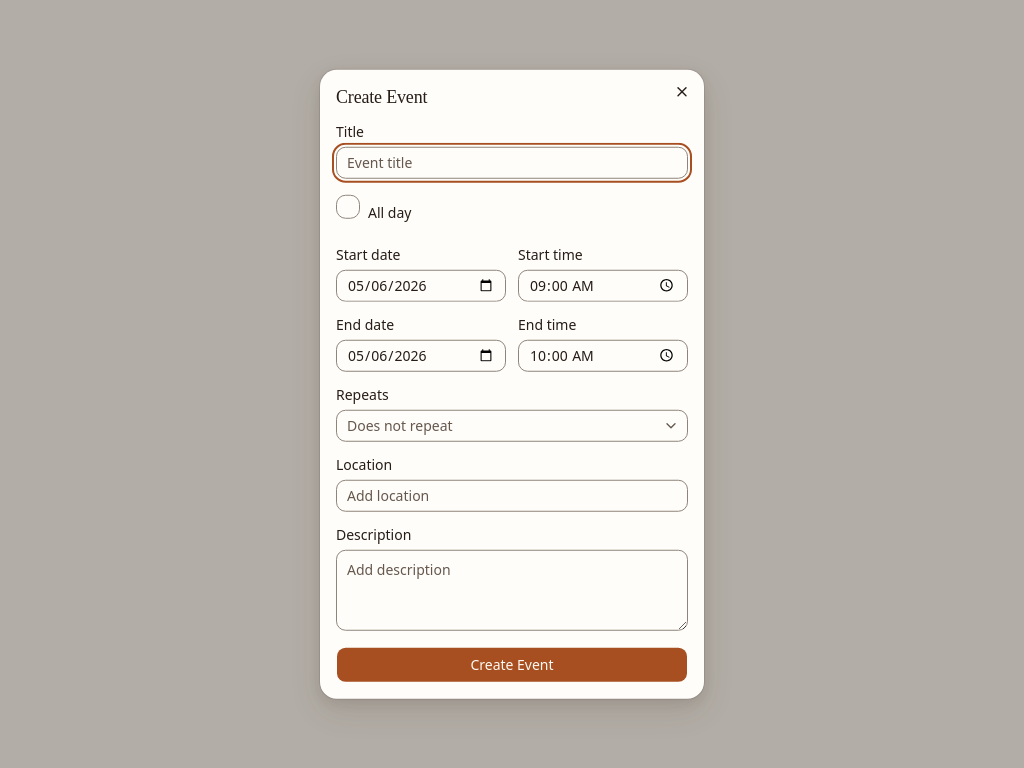
Test: EventFormDialog — Ends control › enables only the input matching the chosen Ends radio
Step 1. Click the dropdown named "Repeats" → coordinates (400, 425), box [336,409,688,441]
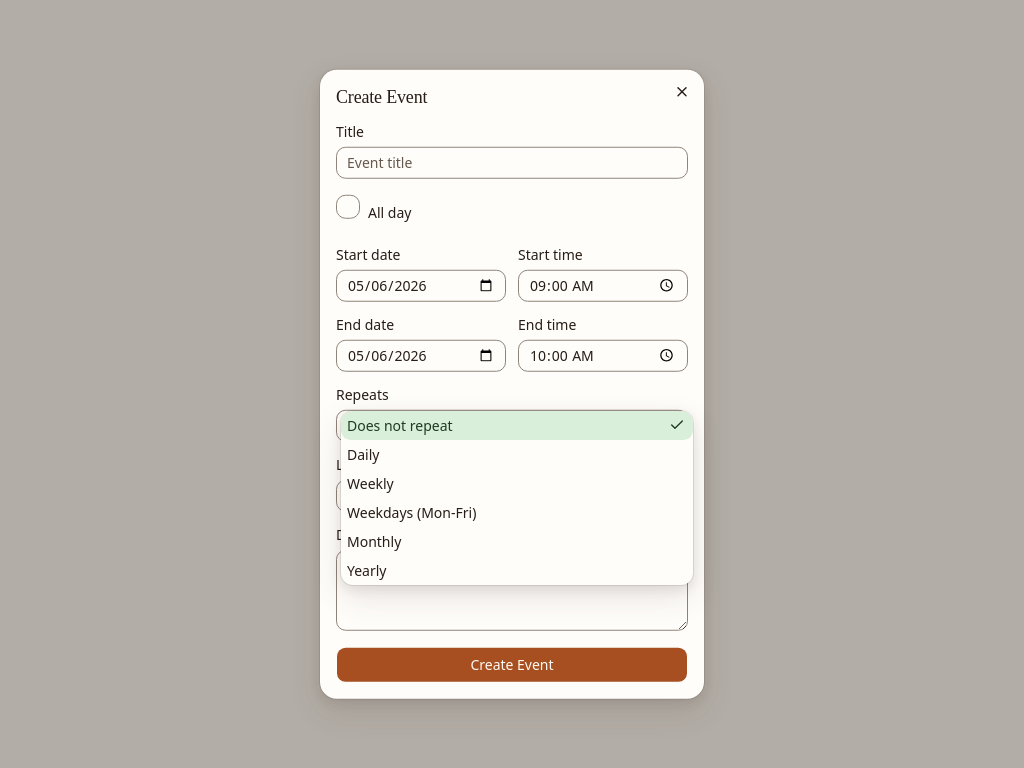
Step 2. Click the option "Weekly" → coordinates (370, 483), box [347,474,394,493]
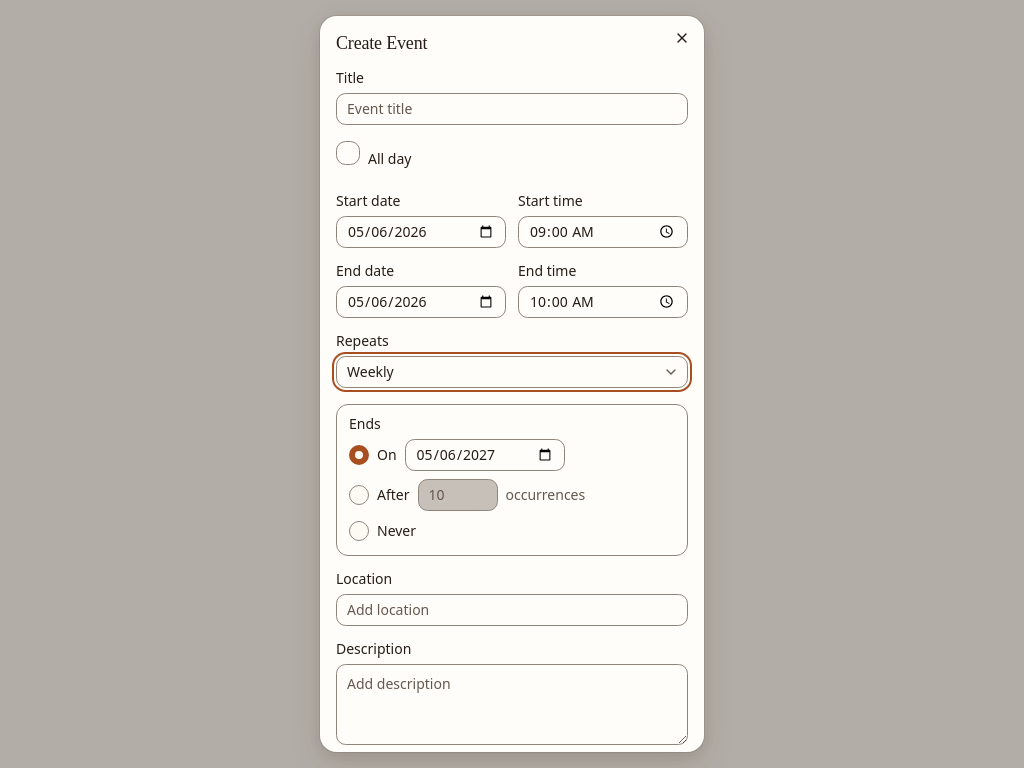
Step 3. Click the radio button labelled "Never" → coordinates (359, 530), box [349,520,369,540]
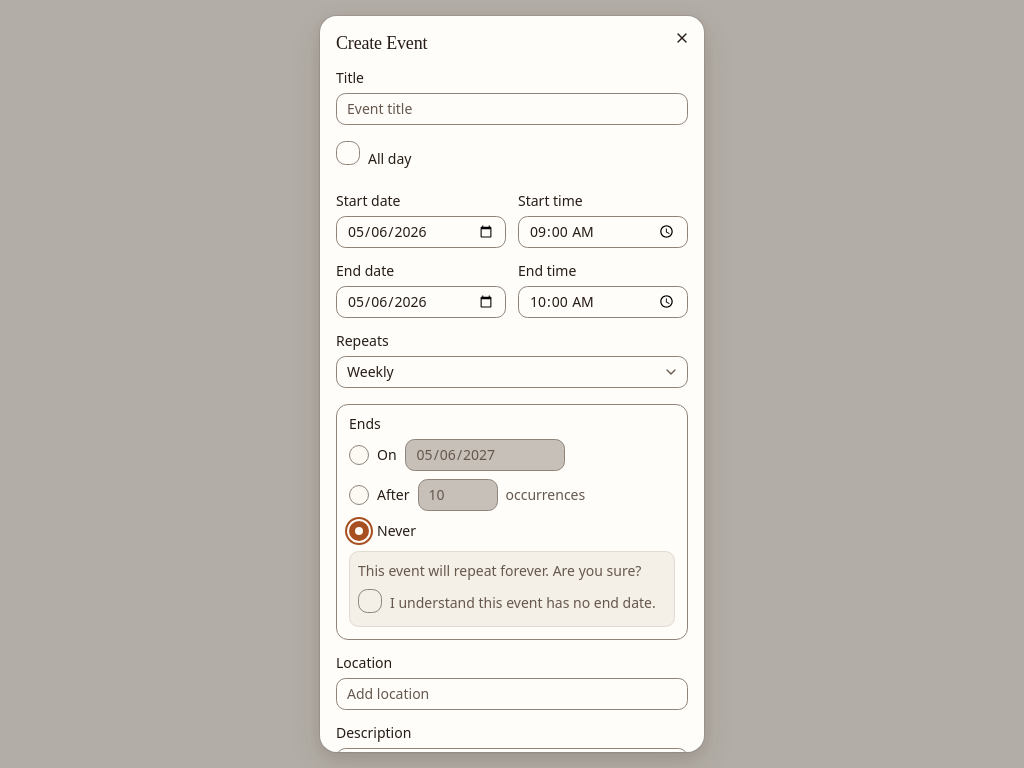
Result: the number field named "Occurrences" is disabled at [418,478,498,510]
Result: the date field named "End date" is disabled at [405,438,565,470]
Step 4. Click the radio button labelled "After" → coordinates (359, 494), box [349,484,369,504]
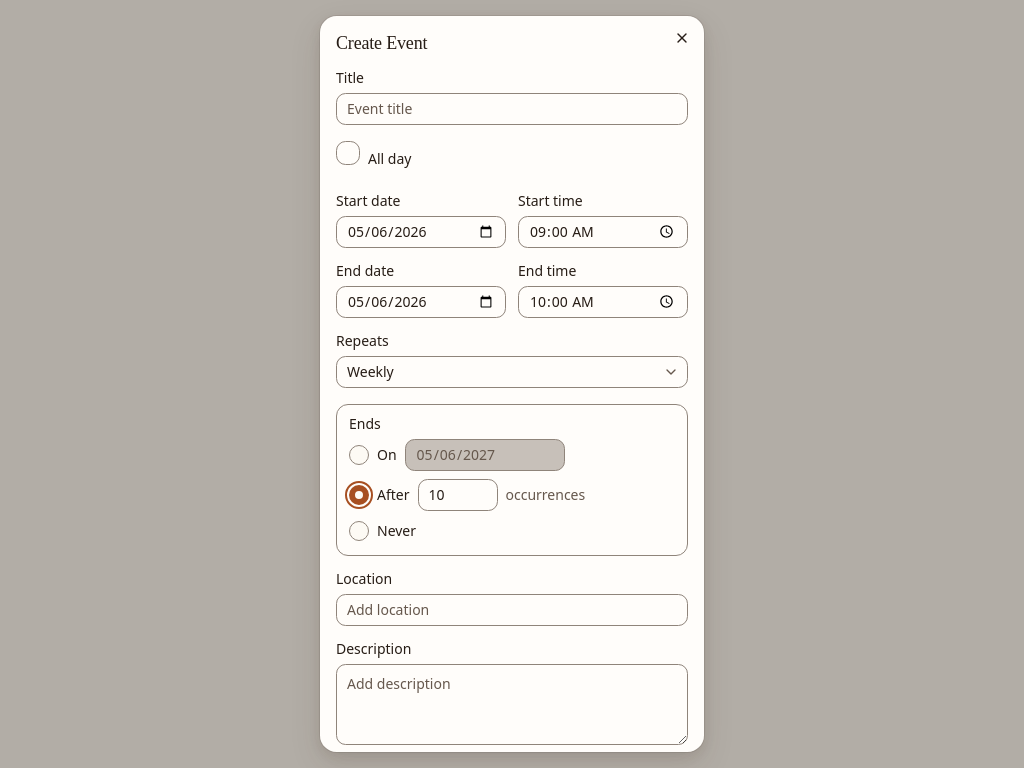
Result: the date field named "End date" is disabled at [405,438,565,470]
Result: the number field named "Occurrences" is enabled at [418,478,498,510]
Step 5. Click the radio button labelled "On" → coordinates (359, 454), box [349,444,369,464]
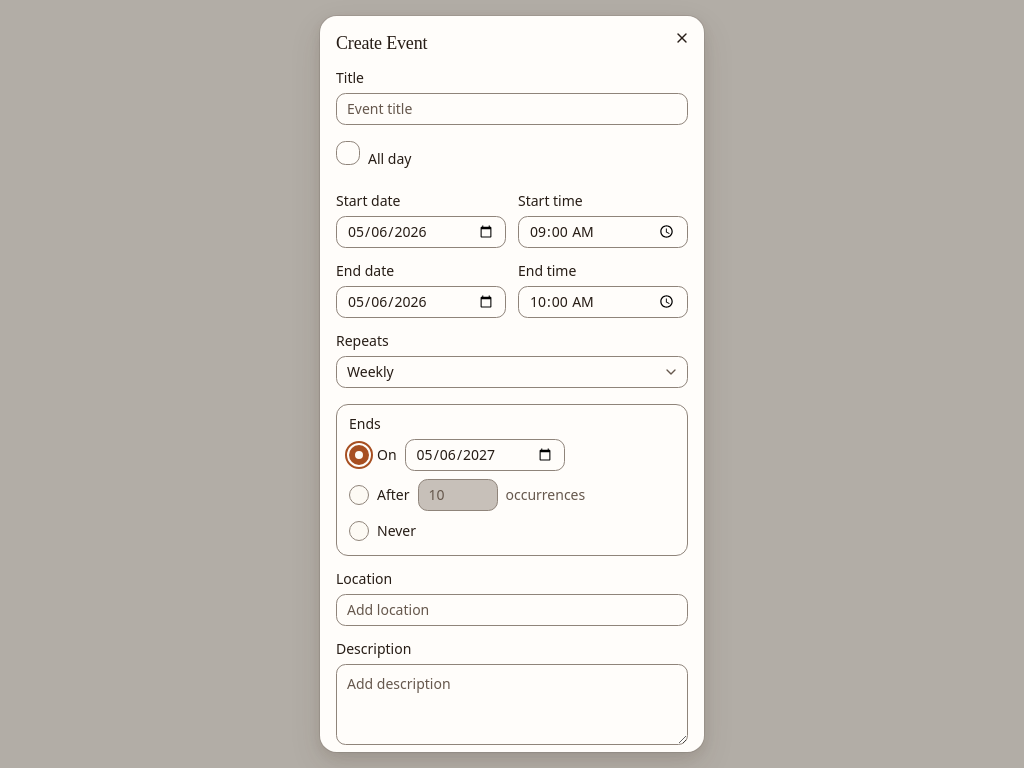
Result: the date field named "End date" is enabled at [405,438,565,470]
Result: the number field named "Occurrences" is disabled at [418,478,498,510]
